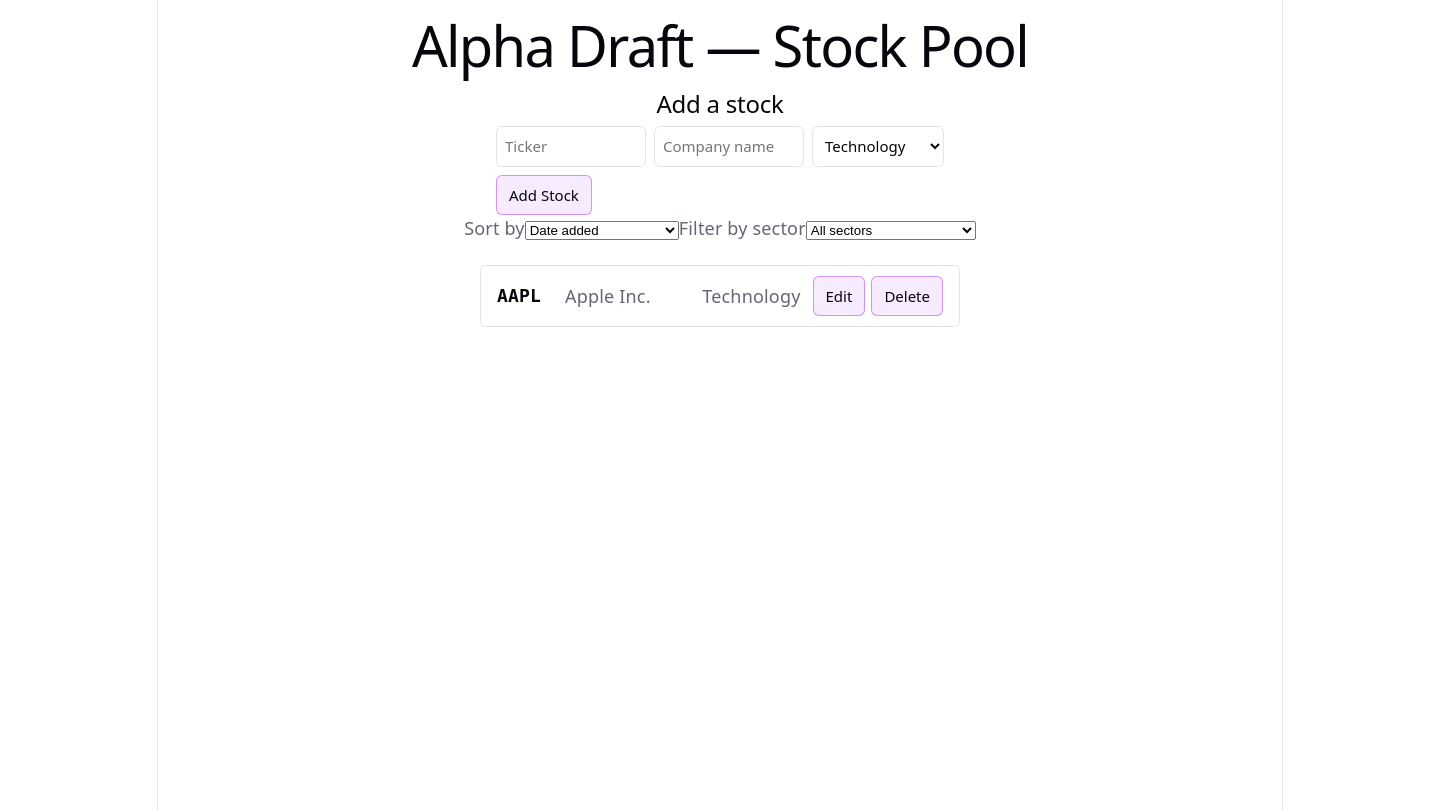
edits a stock through PUT and shows the change without reloading
The image size is (1440, 810).
Expected: the text "AAPL" is shown, [497,283,541,309]
Click the button "Edit" at (839, 296), box [812,276,865,316]
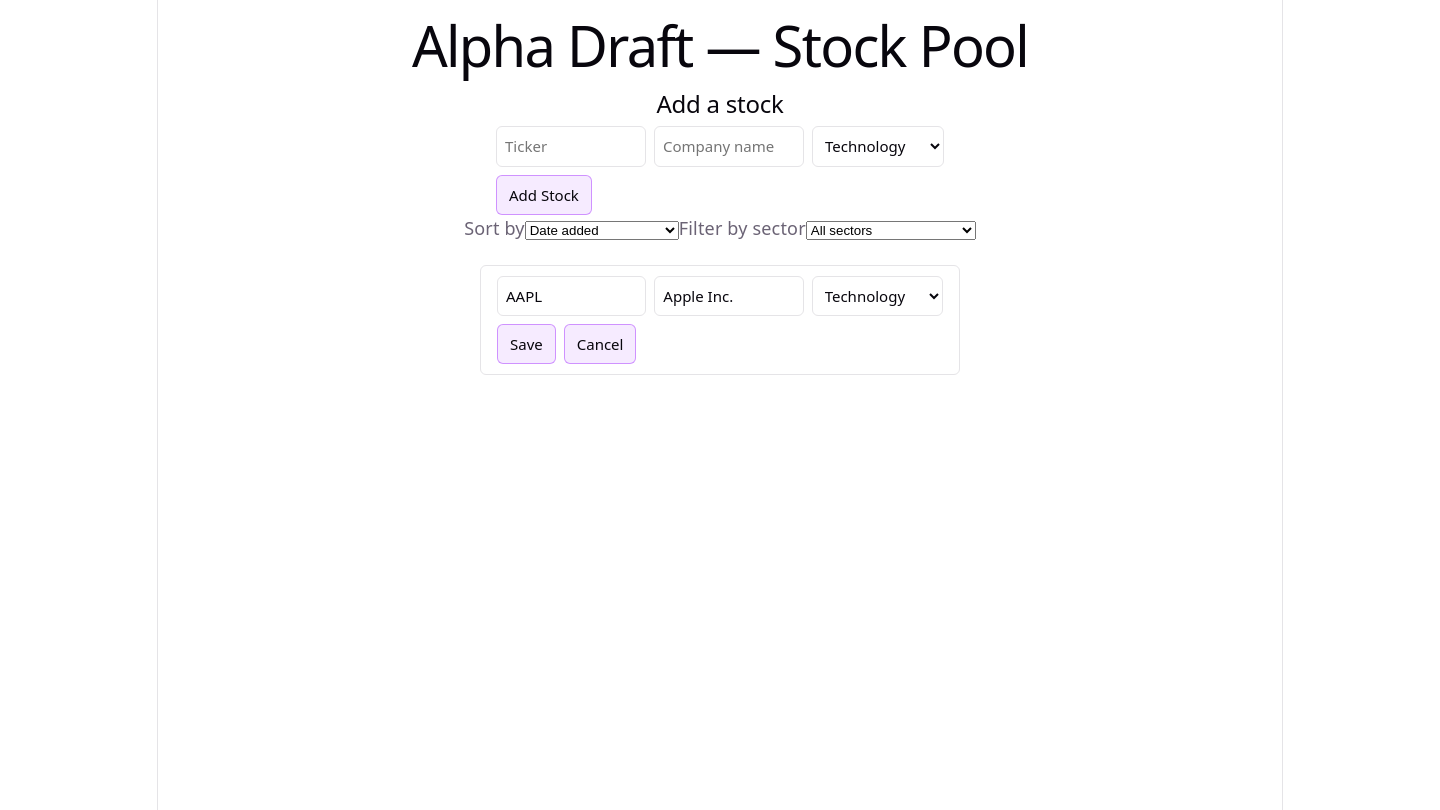
Replace the text in the field named "Company name" with "Apple Incorporated" at (729, 296), box [654,276,804,316]
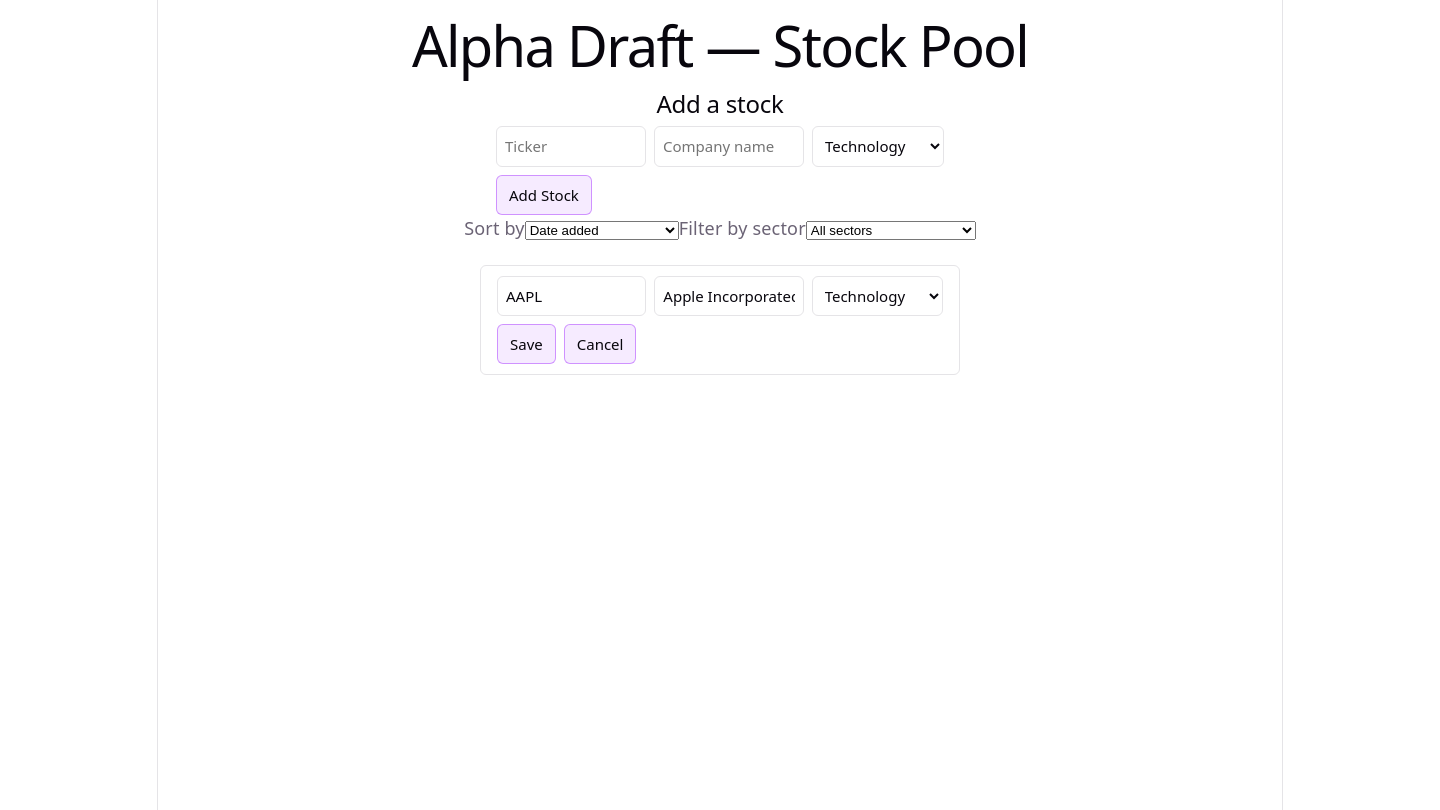
Click the button "Save" at (526, 344), box [497,324,556,364]
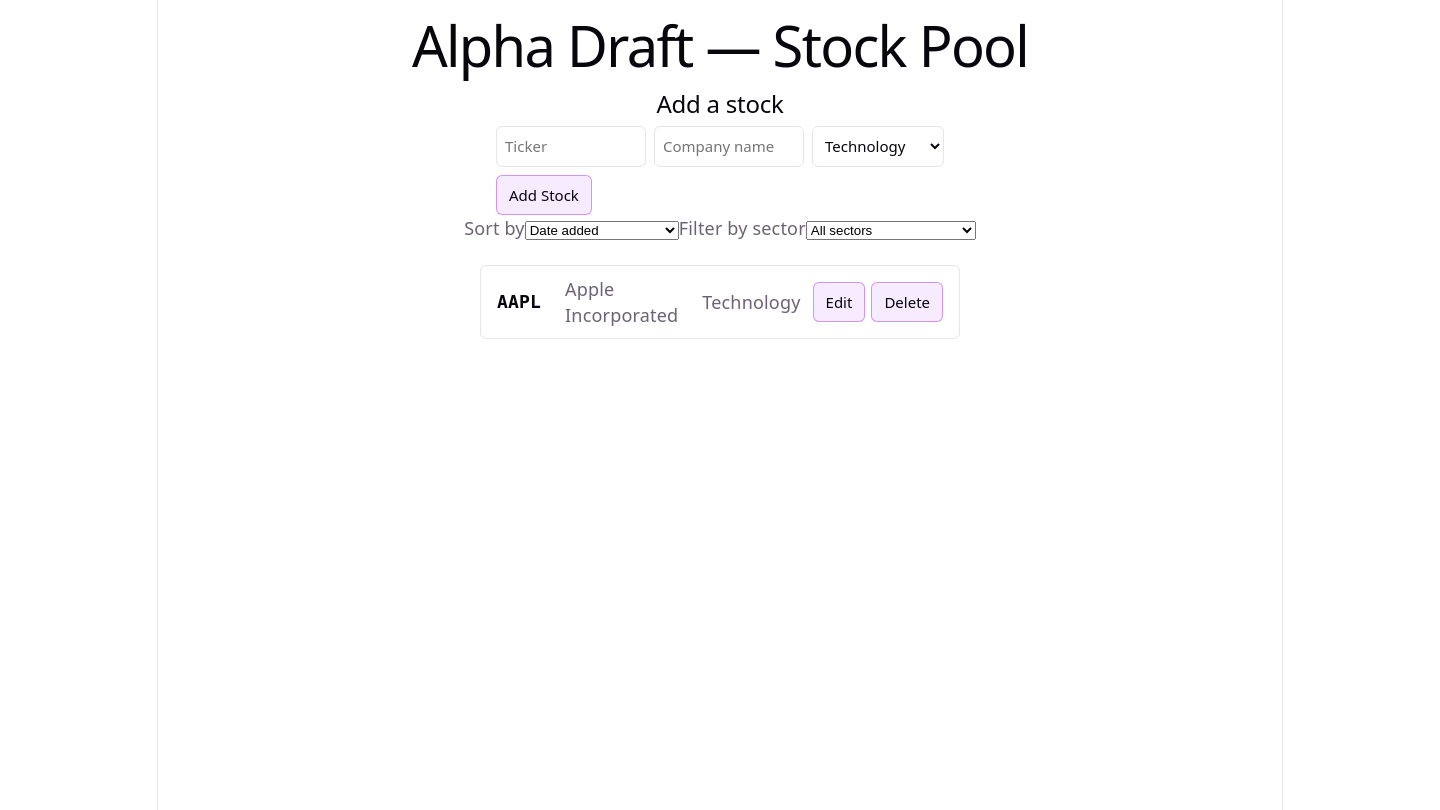
Expected: the text "Apple Incorporated" is shown, [565,276,678,328]
Expected: the button "Save" is gone
